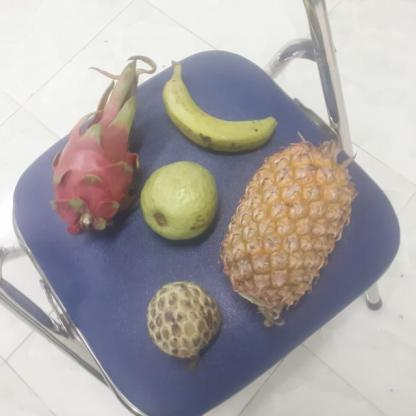annona: (146, 280, 226, 360)
banana: (166, 66, 278, 151)
guava: (138, 162, 223, 244)
pineapple: (223, 144, 359, 320)
pitaya: (53, 102, 145, 230)
